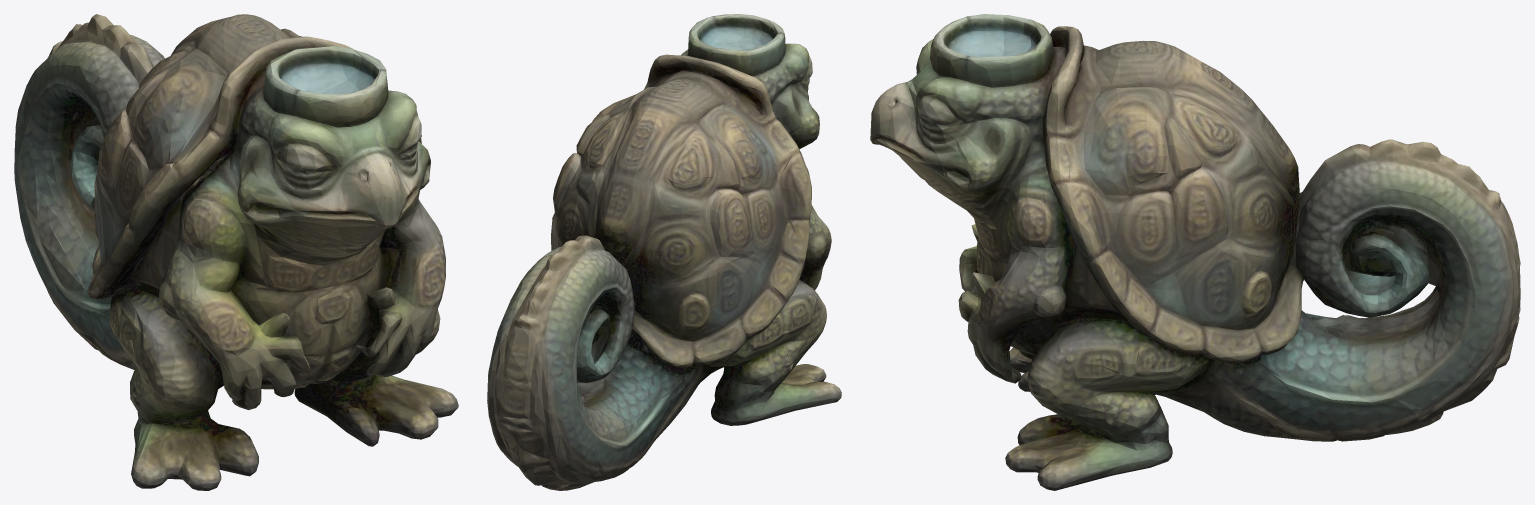
Rendered from kappadeep.glb.
3 views of the same model, side by side, from view 1: azimuth 30°, elevation 25°; view 2: azimuth 150°, elevation 25°; view 3: azimuth 270°, elevation 25° (orthographic). The views are drawn at different scales.
Parts seen in each view (by area): view 1: world; view 2: world; view 3: world.
Part boxes in pixels (x1,y1,x2,y2): world: (14,14,458,490); world: (487,14,841,490); world: (870,14,1520,490).
Bounding box in the file's own units: 0.5436 × 0.6764 × 0.9998.
Materials: 1 (1 with a texture image).
